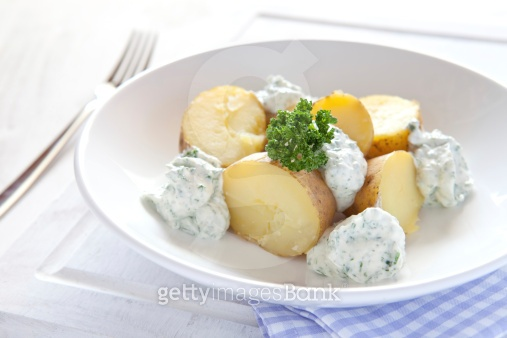boiled potatoes: (185, 85, 428, 242)
